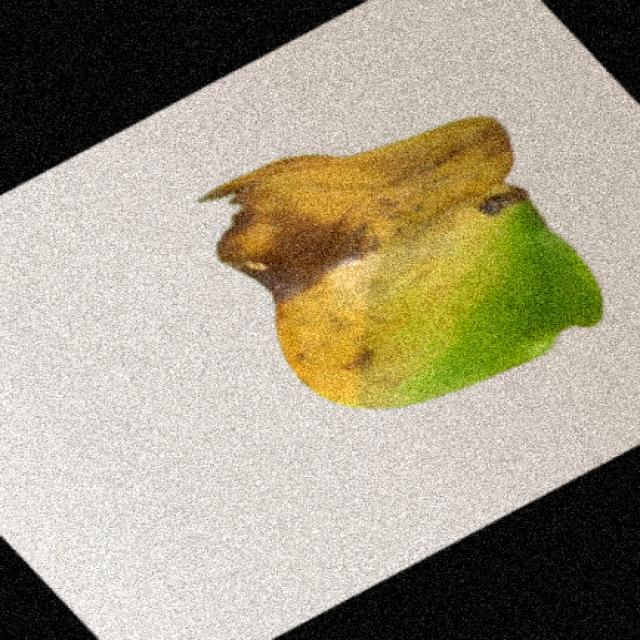daun berpenyakit kuning: (205, 118, 602, 408)
